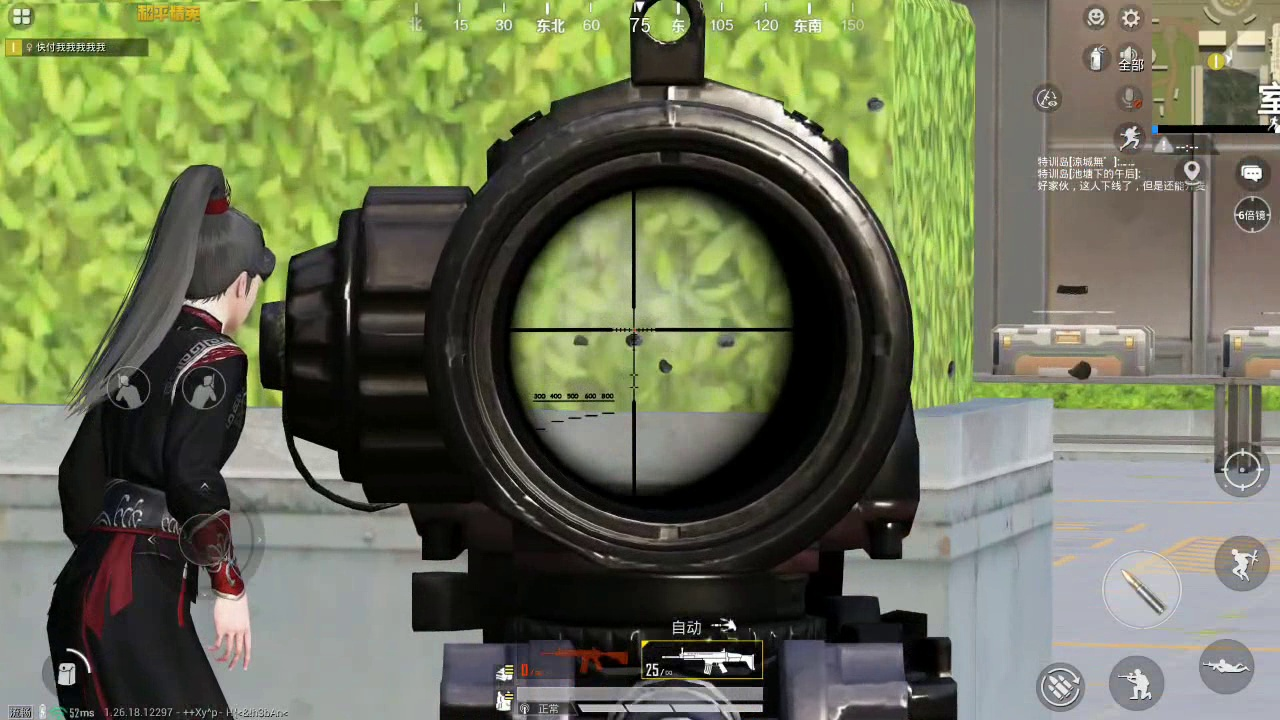enemy: (46, 182, 255, 720)
